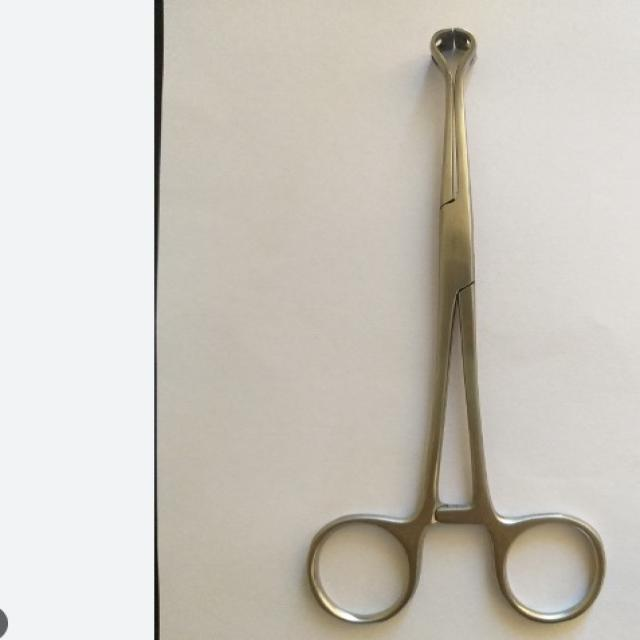Babcock Forceps: (300, 9, 609, 626)
